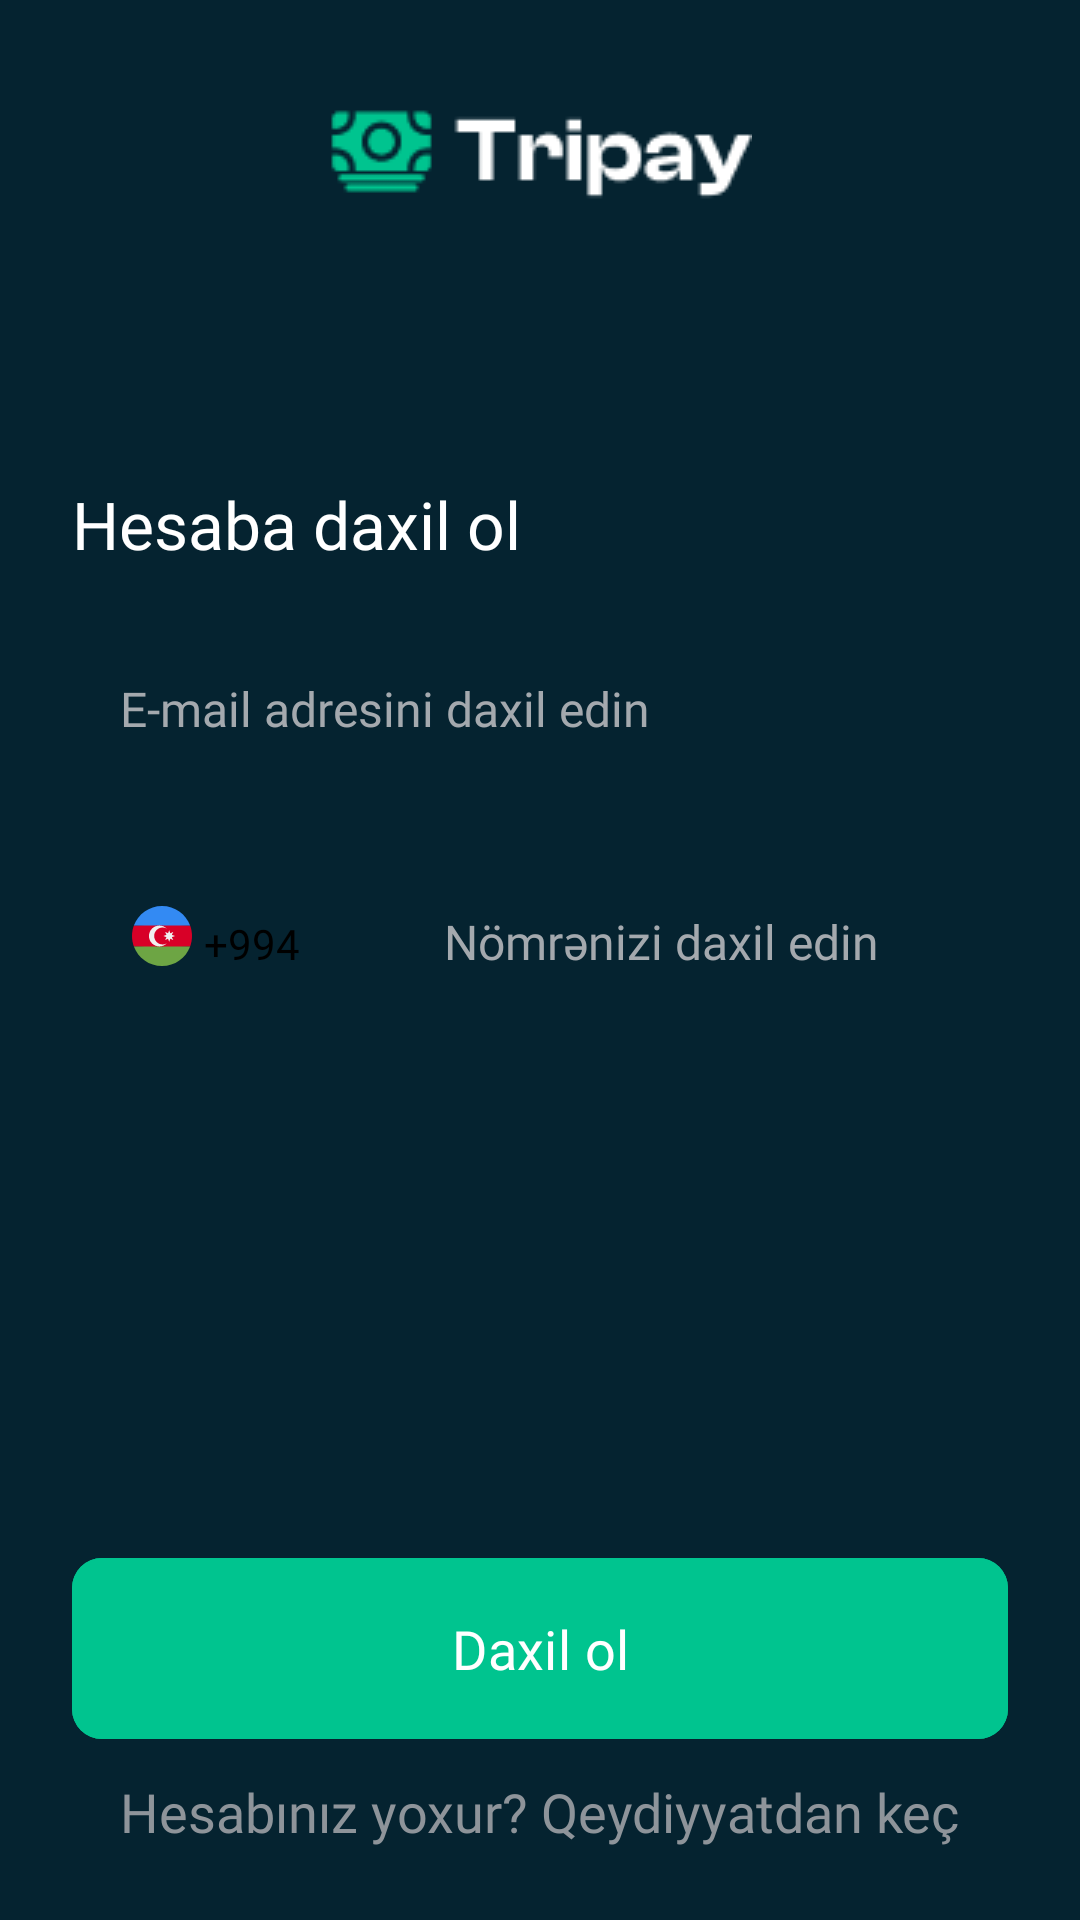

Named icons in this screenshot (1080w x 1920h) and their centers, (x,y):
azerbaijan: (162,936)
